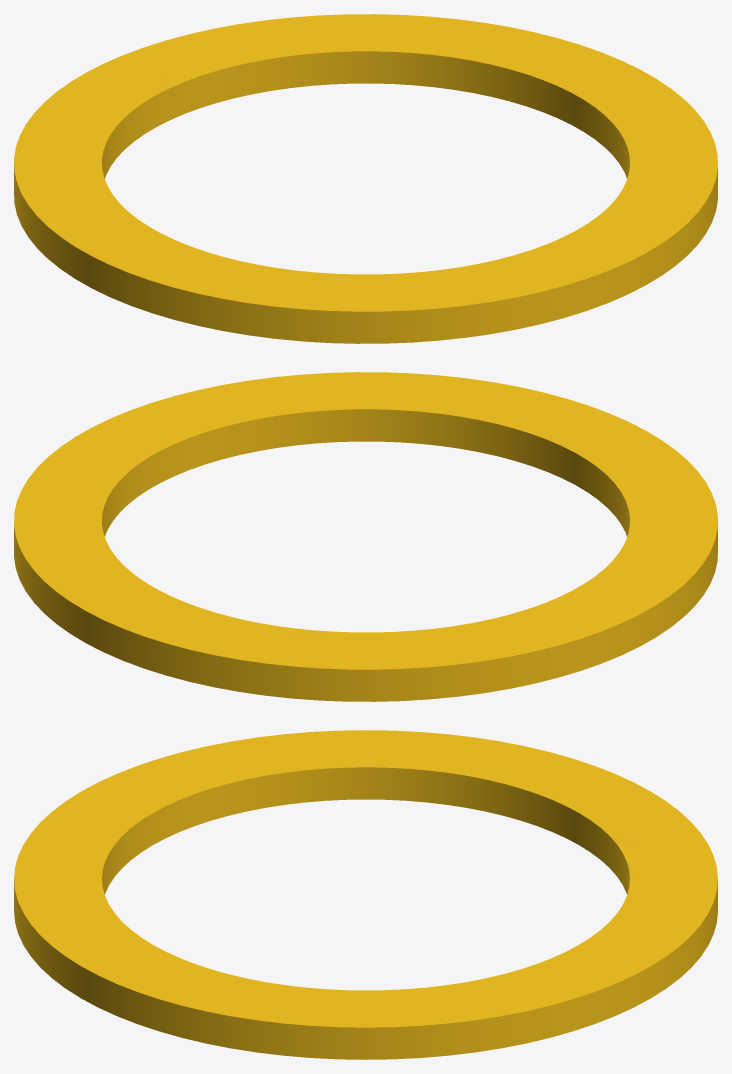
File: circleFinish.fbx
3 renders of one model, top to bottom at view 1: azimuth 30°, elevation 25°; view 2: azimuth 150°, elevation 25°; view 3: azimuth 270°, elevation 25°, orthographic.
Parts seen in each view (by area): view 1: root; view 2: root; view 3: root.
Part boxes in pixels (bbox=[...]): root: bbox=[14, 14, 717, 343]; root: bbox=[14, 372, 717, 701]; root: bbox=[14, 730, 717, 1059].
Size of the model in its own units: 0.7359 by 0.0371 by 0.7359.
Materials: 1 (1 with a texture image).
